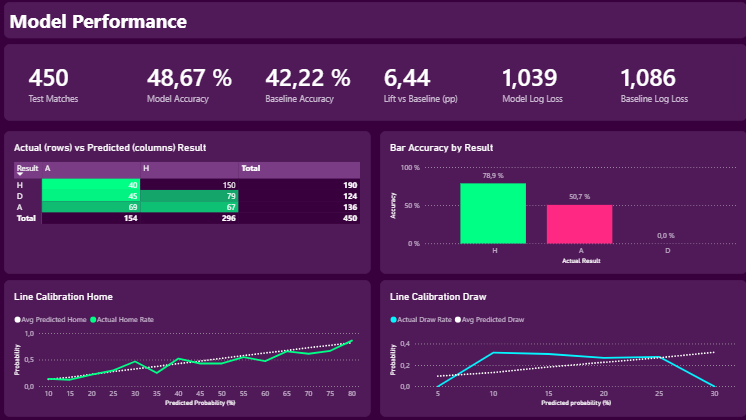

The page's visual inventory and layout, read from the dashboard file:
{"tool":"powerbi","page":{"name":"Model Performance","canvas":[1280,720],"ordinal":3},"visuals":[{"type":"textbox","box":[23.4,16.1,1248.3,61.5],"z":0},{"type":"cardVisual","fields":{"Data":["_Measures.Matches","_Measures.Model Accuracy","_Measures.Baseline Accuracy","_Measures.Lift vs Baseline (pp)","metrics.Model Log Loss","metrics.Baseline Log Loss"]},"box":[23.4,87.8,1248.1,129.3],"z":1000},{"type":"pivotTable","title":"Actual (rows) vs Predicted (columns) Result","fields":{"Rows":["matches.result"],"Columns":["predictions.pred_result"],"Values":["_Measures.Matches"]},"box":[23.4,234.1,616.1,240],"z":2000},{"type":"clusteredColumnChart","title":"Bar Accuracy by Result","fields":{"Y":["_Measures.Accuracy by Result"],"Category":["matches.result"]},"box":[655.6,234.1,616.7,240],"z":3000},{"type":"lineChart","title":"Line Calibration Home","fields":{"Category":["matches.Prob Bin H"],"Y":["_Measures.Prob Home","_Measures.Actual Home Rate"]},"box":[23.4,484.4,616.1,229.8],"z":4000},{"type":"lineChart","title":"Line Calibration Draw","fields":{"Y":["_Measures.Actual Draw Rate","_Measures.Prob Draw"],"Category":["matches.Prob Bin D"]},"box":[655.6,484.4,616.1,229.8],"z":5000}]}

Visuals, with their boxes in screenshot pixels (x1, y1, x2, y2), scaled from the page's 1280x720 canvas onto the 746x420 screenshot:
textbox: BBox(14, 9, 741, 45)
cardVisual - _Measures.Matches x _Measures.Model Accuracy: BBox(14, 51, 741, 127)
"Actual (rows) vs Predicted (columns) Result" pivotTable: BBox(14, 137, 373, 277)
"Bar Accuracy by Result" clusteredColumnChart: BBox(382, 137, 742, 277)
"Line Calibration Home" lineChart: BBox(14, 283, 373, 417)
"Line Calibration Draw" lineChart: BBox(382, 283, 741, 417)
